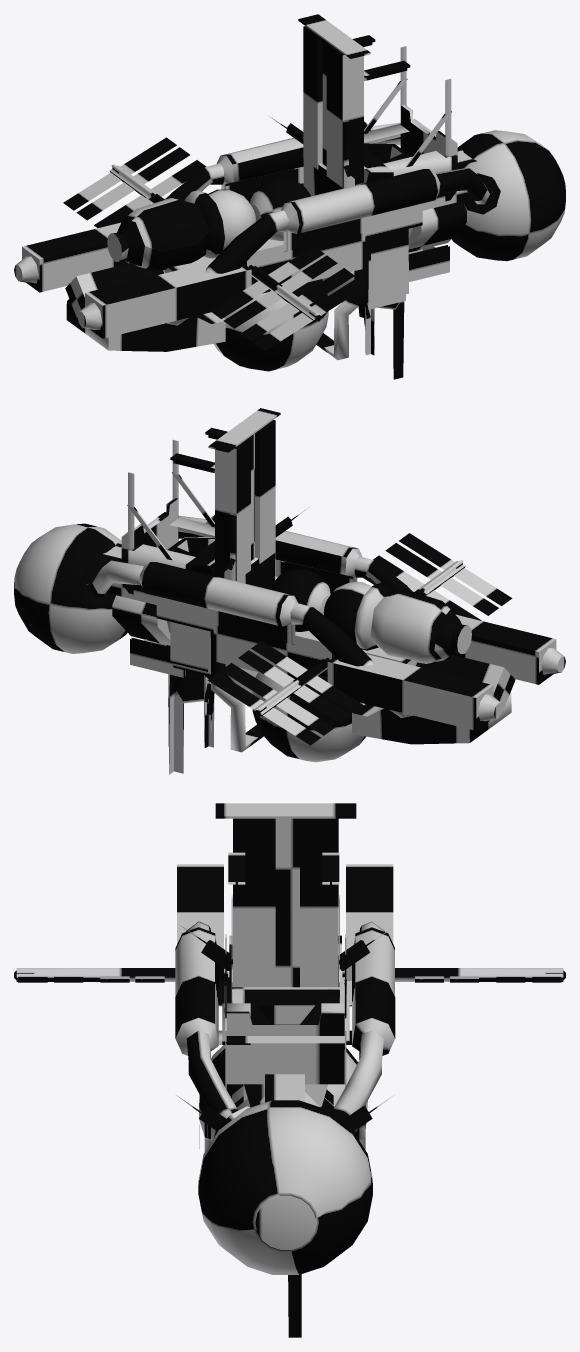
Rendered from building_tradeport.obj.
3 views of the same model, one above another, from view 1: azimuth 30°, elevation 25°; view 2: azimuth 150°, elevation 25°; view 3: azimuth 270°, elevation 25° (orthographic). The views are drawn at different scales.
Visible parts, largest first — view 1: building_tradeport_EIC; view 2: building_tradeport_EIC; view 3: building_tradeport_EIC.
Boxes of the visible parts, bbox=[...] form: building_tradeport_EIC: bbox=[14, 14, 565, 379]; building_tradeport_EIC: bbox=[14, 408, 565, 774]; building_tradeport_EIC: bbox=[14, 803, 565, 1337].
Bounding box in the file's own units: 1006 × 679 × 704.
1 material, 1 textured.
